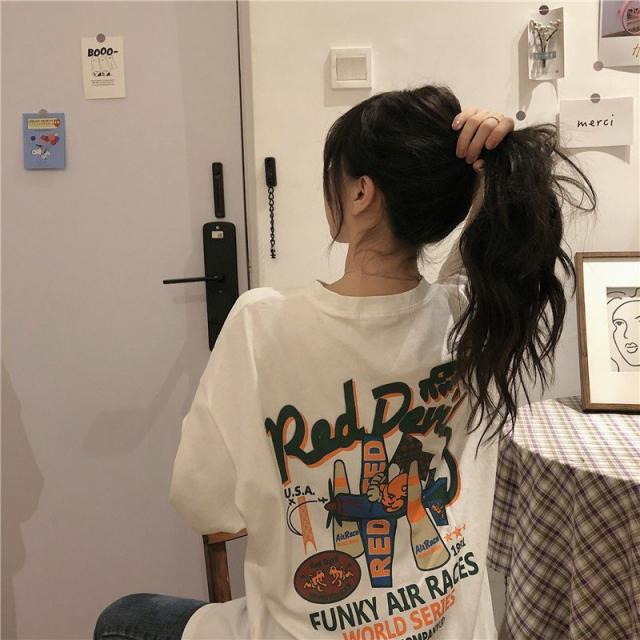Shirt: (171, 276, 523, 640)
